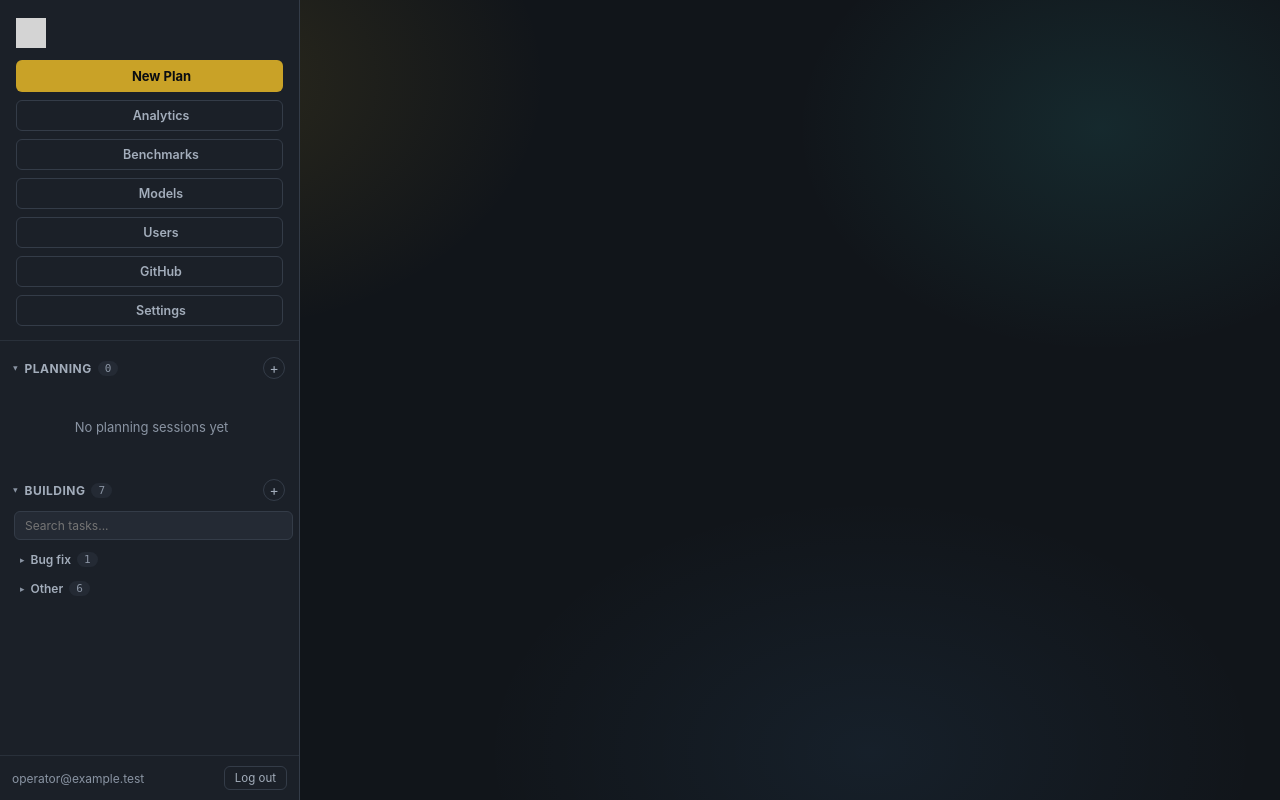
it: Sidebar — search › expands categories so matches are visible
Type "parser" into the field with placeholder "Search tasks..." at (154,526), box [14,511,293,540]
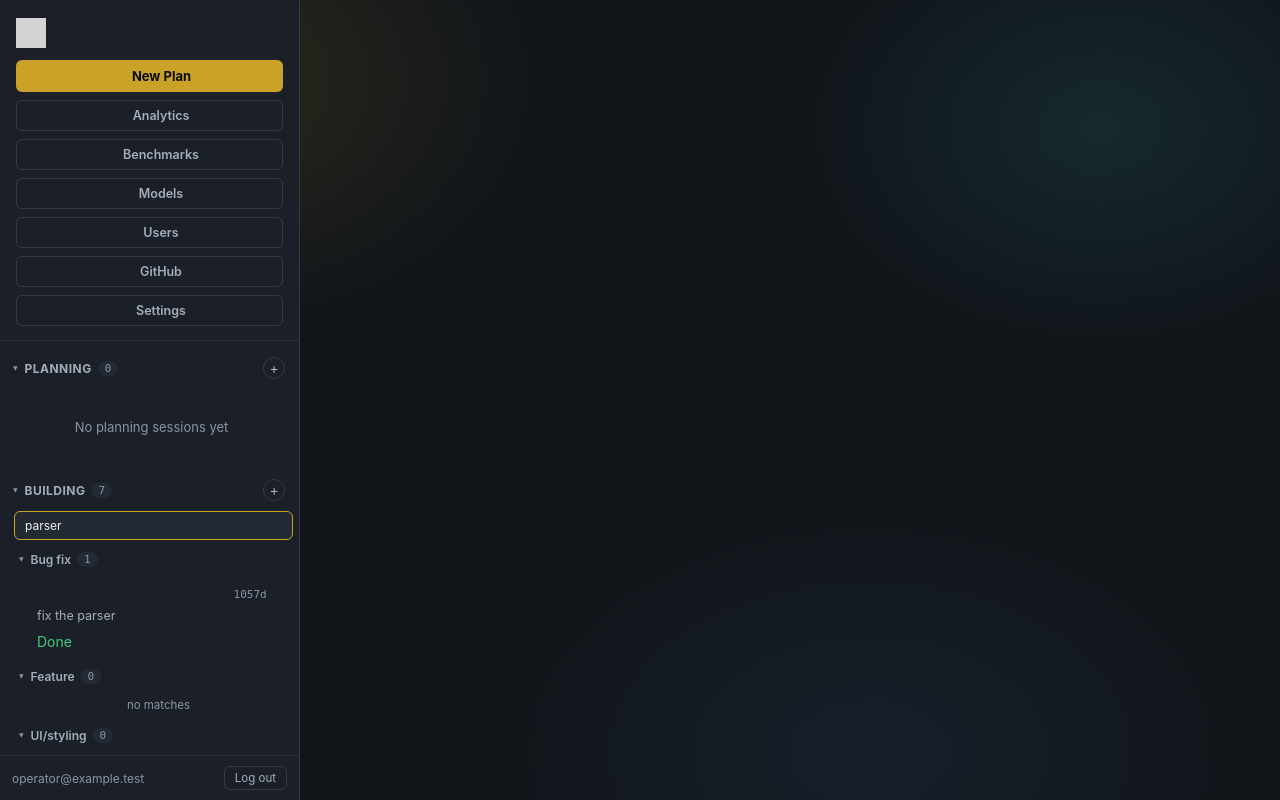
Expected: the text "fix the parser" is shown, [37,608,115,623]
